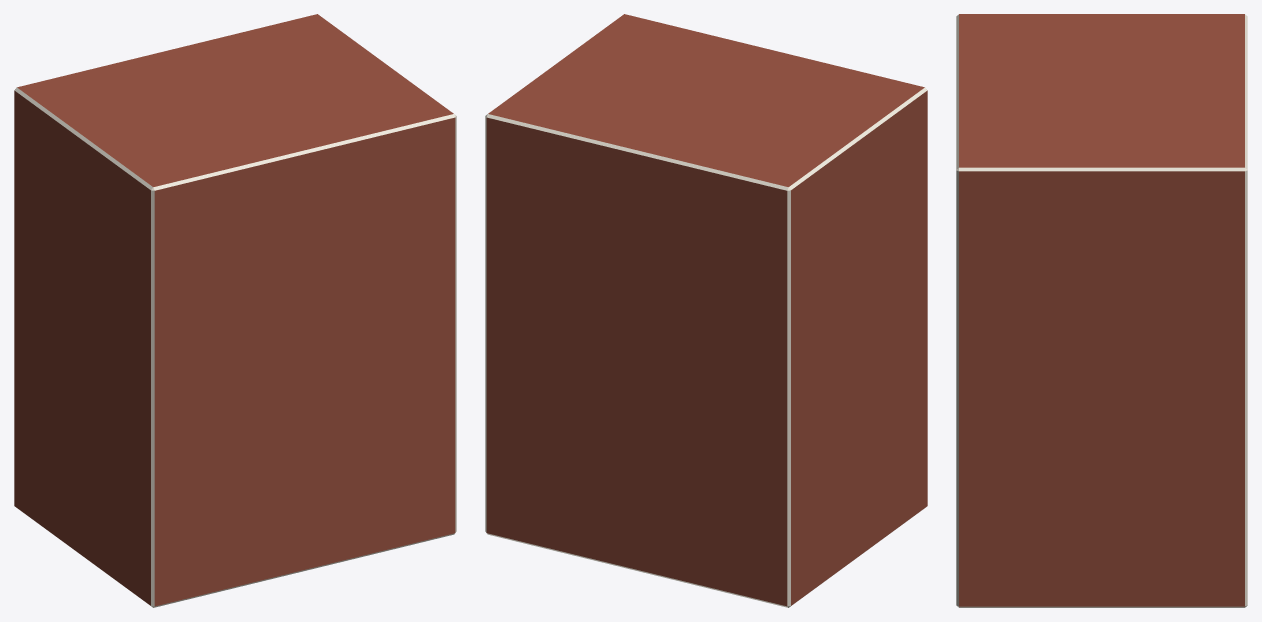
Rendered from kit_chimney.obj.
3 views of the same model, side by side, from view 1: azimuth 30°, elevation 25°; view 2: azimuth 150°, elevation 25°; view 3: azimuth 270°, elevation 25° (orthographic). The views are drawn at different scales.
Visible parts, largest first — view 1: kit_chimney; view 2: kit_chimney; view 3: kit_chimney.
Part boxes in pixels (<box>): kit_chimney: <box>14,14,456,607</box>; kit_chimney: <box>485,14,927,607</box>; kit_chimney: <box>956,14,1247,607</box>.
Bounding box in the file's own units: 0.76 × 1 × 0.6.
